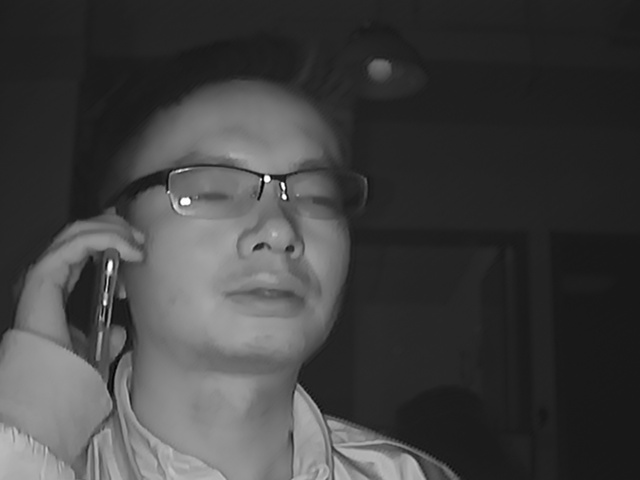hand: (27, 214, 142, 360)
